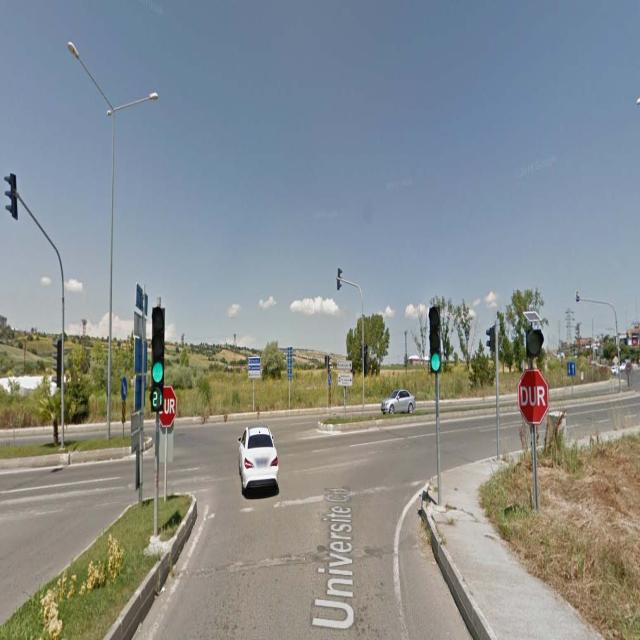dur: (518, 369, 548, 425), (159, 387, 176, 426)
yesil: (152, 307, 164, 383), (429, 307, 440, 372)
